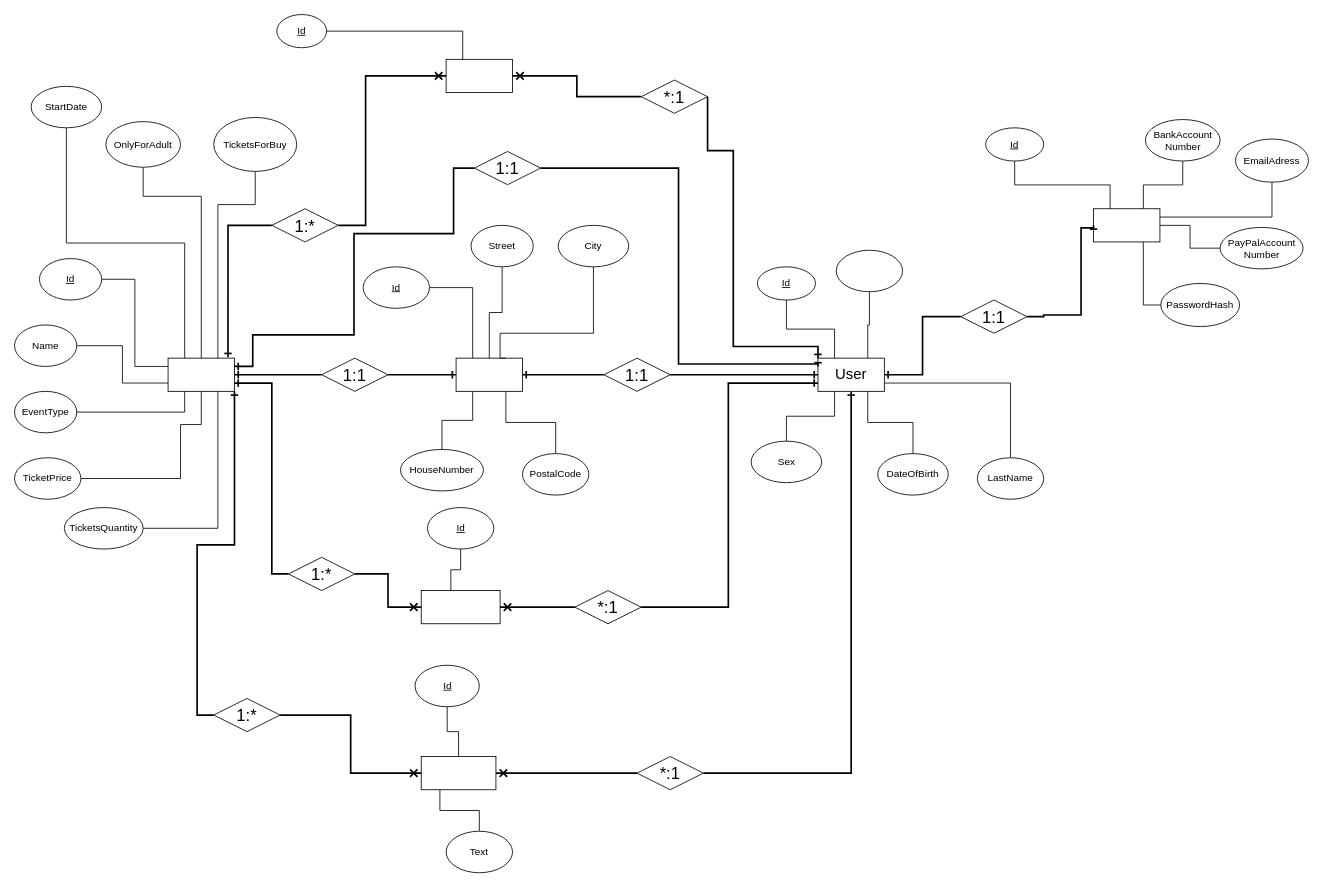
Image size: 1323x887. Some labels were removed from this diagram. The shapes that lost their labels are listed below. From the top down, each one's centre as x and y in pixels, then its label:
the point at 479,76: Ticket
the point at 1126,225: Account
the point at 869,270: FirstName
the point at 200,374: Event
the point at 488,374: Adress
the point at 460,607: Participant
the point at 458,773: Comment
